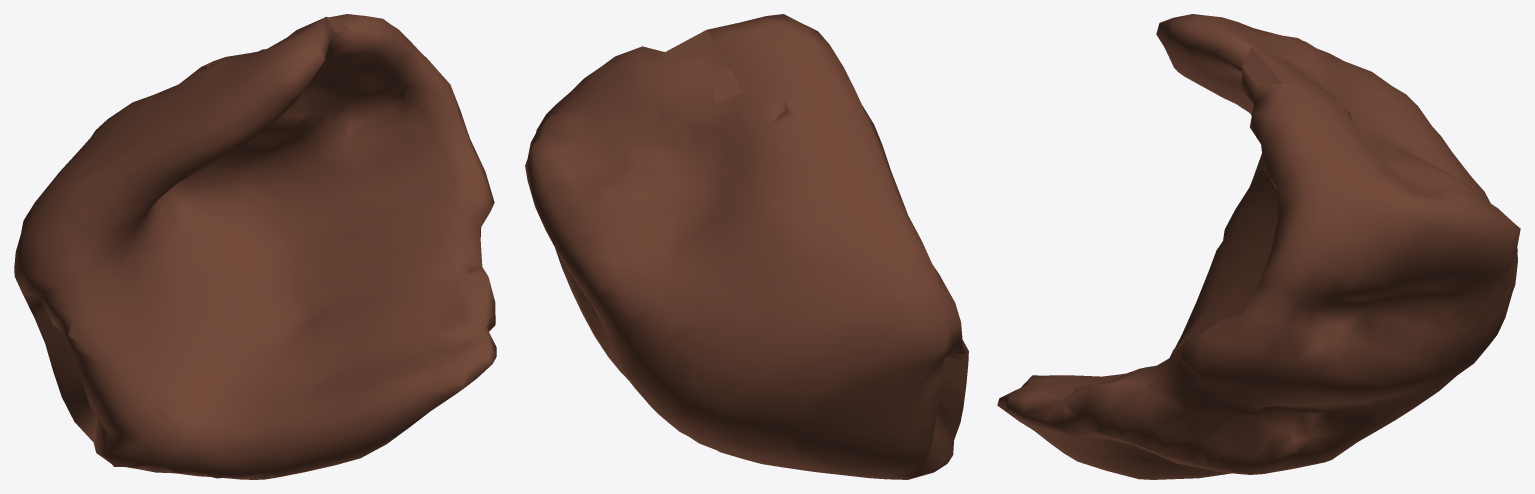
File: baseball-glove.obj
The picture shows the model from 3 angles, left to right: view 1: azimuth 30°, elevation 25°; view 2: azimuth 150°, elevation 25°; view 3: azimuth 270°, elevation 25°; orthographic projection. The views are drawn at different scales.
Visible parts, largest first — view 1: Baseball_Glove_Cube.017; view 2: Baseball_Glove_Cube.017; view 3: Baseball_Glove_Cube.017.
Part boxes in pixels (x1=…): Baseball_Glove_Cube.017: x1=14, y1=14, x2=496, y2=479; Baseball_Glove_Cube.017: x1=525, y1=14, x2=968, y2=479; Baseball_Glove_Cube.017: x1=997, y1=14, x2=1520, y2=479.
Size of what is drawn, in the model's own units: 2.23 by 2.05 by 2.05.
Materials: 1 (1 with a texture image).
